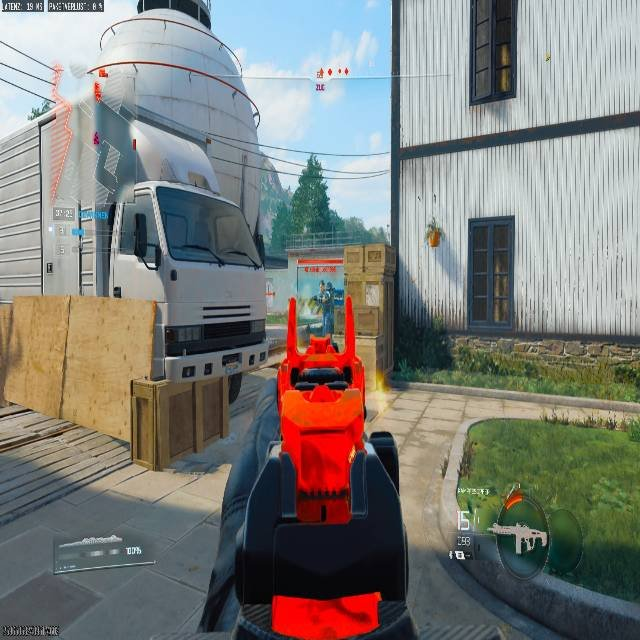head: (319, 279, 329, 291)
player: (308, 279, 345, 344), (316, 279, 340, 316)
